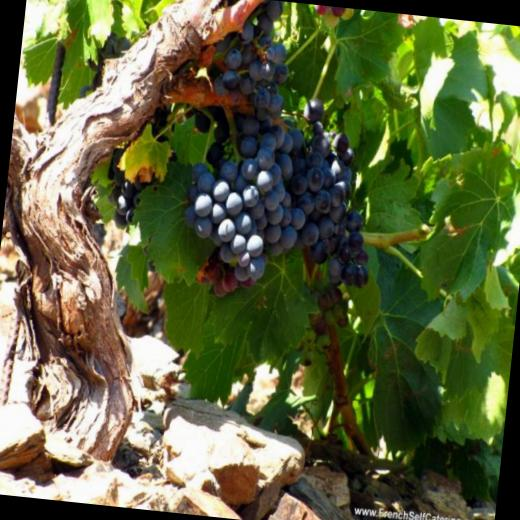Orange: (158, 0, 393, 373), (76, 28, 130, 104), (103, 153, 148, 229), (323, 10, 339, 26), (339, 7, 352, 19), (316, 5, 330, 15), (330, 6, 344, 16)
